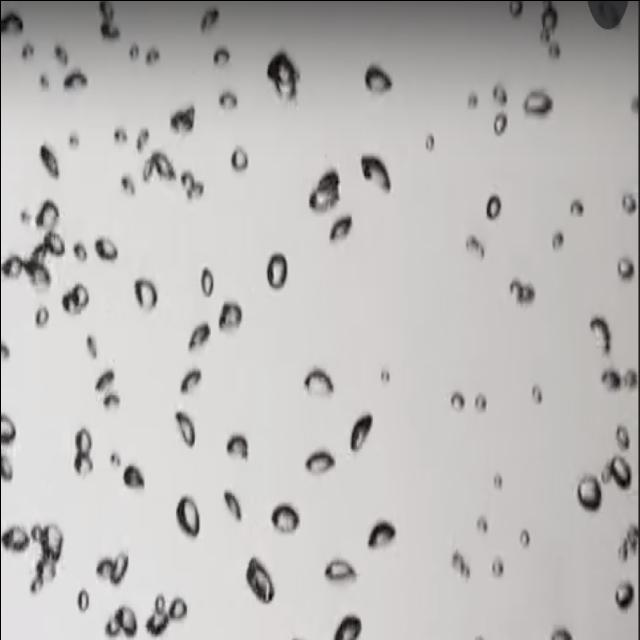bubble: (28, 521, 64, 595), (266, 51, 299, 104), (244, 557, 274, 605), (588, 0, 627, 36), (308, 171, 340, 214), (360, 154, 390, 194), (96, 551, 128, 587), (105, 604, 136, 640), (144, 150, 176, 184), (604, 454, 632, 492), (72, 426, 92, 479), (175, 494, 199, 538), (576, 473, 602, 512), (522, 88, 554, 119), (145, 600, 171, 638), (24, 256, 51, 292), (62, 282, 90, 316), (350, 413, 373, 453), (270, 504, 300, 534), (303, 368, 333, 398), (324, 558, 356, 586), (588, 316, 610, 356), (616, 523, 638, 563), (367, 522, 396, 552), (363, 64, 392, 94), (1, 525, 30, 554), (133, 278, 157, 312), (35, 198, 59, 232), (265, 253, 287, 289), (169, 105, 195, 135), (173, 411, 194, 448), (304, 451, 334, 476), (218, 301, 242, 332), (508, 278, 534, 306), (38, 144, 58, 180), (180, 170, 203, 201), (333, 615, 361, 640), (188, 322, 210, 352), (329, 216, 352, 243), (180, 368, 202, 396), (42, 230, 64, 258), (614, 582, 634, 612), (450, 550, 470, 580), (226, 434, 248, 461), (0, 253, 22, 280), (223, 490, 241, 522), (95, 236, 117, 262), (122, 464, 144, 490), (539, 6, 555, 41), (0, 13, 23, 37), (94, 369, 115, 395), (464, 233, 484, 260), (0, 414, 16, 446), (64, 70, 88, 91), (200, 7, 219, 33), (600, 369, 620, 393), (616, 256, 634, 282), (230, 147, 248, 172), (98, 20, 118, 42), (168, 597, 186, 621), (548, 622, 572, 640), (218, 90, 238, 111), (484, 194, 500, 220), (614, 424, 630, 450), (620, 367, 637, 391), (0, 455, 14, 483), (200, 267, 213, 297), (620, 191, 636, 215), (212, 46, 230, 66), (102, 392, 120, 412), (493, 112, 507, 136), (135, 127, 149, 151), (34, 305, 49, 327), (120, 174, 135, 196), (449, 391, 464, 412), (53, 44, 67, 66), (72, 242, 87, 262), (85, 334, 97, 359), (492, 84, 506, 105), (77, 589, 89, 613), (600, 460, 612, 484), (546, 40, 560, 60), (491, 556, 503, 578), (569, 198, 583, 216), (112, 126, 126, 144), (145, 47, 159, 65), (21, 41, 34, 60), (530, 384, 542, 404), (476, 515, 488, 535), (474, 393, 486, 413), (518, 528, 530, 548), (552, 231, 564, 251), (508, 1, 522, 18), (98, 0, 111, 18), (468, 624, 486, 637), (0, 341, 12, 359), (18, 208, 31, 224), (629, 94, 639, 113), (467, 92, 478, 109), (492, 472, 502, 490), (424, 133, 434, 151), (128, 43, 138, 60), (110, 451, 120, 468), (380, 368, 390, 384), (68, 132, 78, 148), (38, 74, 48, 90)
